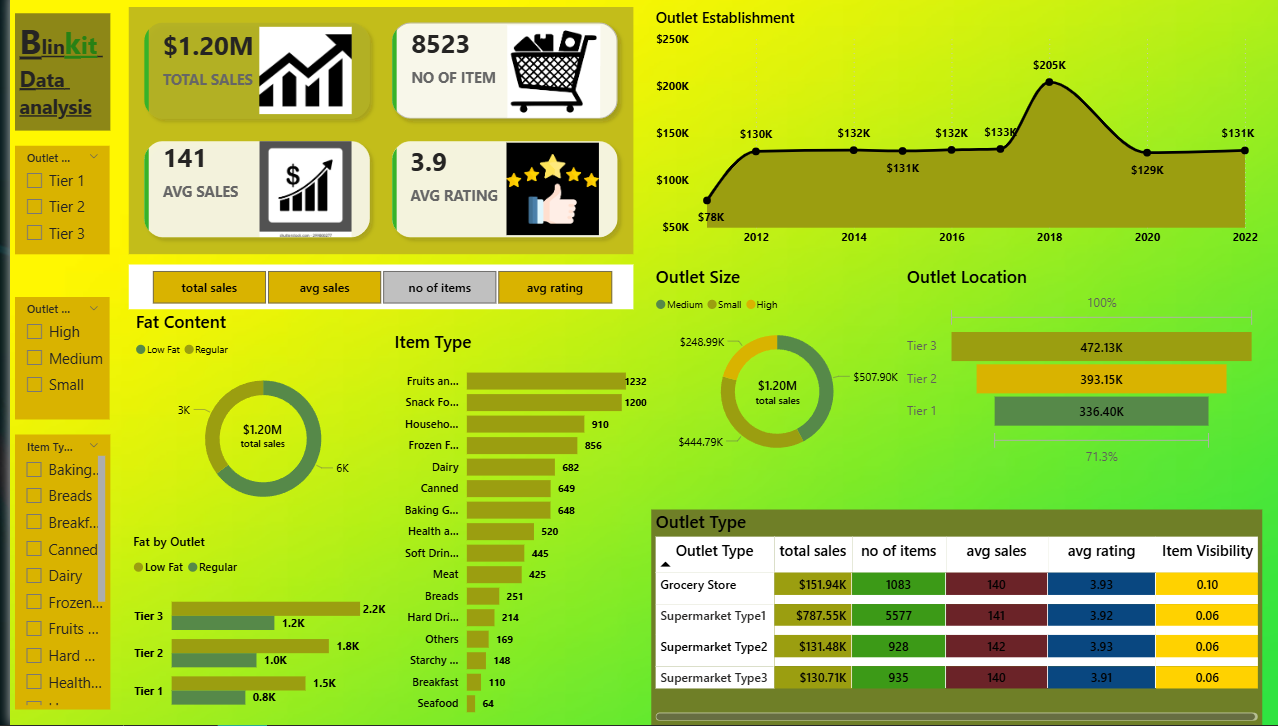

What the dashboard file says about the page in this screenshot:
{"tool":"powerbi","page":{"name":"Page 1","canvas":[1400,800],"ordinal":0},"visuals":[{"type":"cardVisual","fields":{"Data":["BlinkIT Grocery Data.total sales","BlinkIT Grocery Data.no of items","BlinkIT Grocery Data.avg sales","BlinkIT Grocery Data.avg rating"]},"box":[129.5,16.4,550.8,269.9],"z":0},{"type":"donutChart","title":"Fat Content","fields":{"Y":["BlinkIT Grocery Data.no of items"],"Category":["BlinkIT Grocery Data.Item Fat Content"]},"box":[132.1,346.7,288.2,229.6],"z":1000},{"type":"slicer","fields":{"Values":["matrix.matrix"]},"box":[129.5,297.2,550.8,49.1],"z":2000},{"type":"cardVisual","fields":{"Data":["BlinkIT Grocery Data.total sales"]},"box":[229.6,448.8,93.1,69],"z":3000},{"type":"clusteredBarChart","title":"Fat by Outlet","fields":{"Y":["BlinkIT Grocery Data.no of items"],"Category":["BlinkIT Grocery Data.Outlet Location Type"],"Series":["BlinkIT Grocery Data.Item Fat Content"]},"box":[129.1,589.8,285.2,210.1],"z":4000},{"type":"barChart","title":"Item Type","fields":{"Y":["BlinkIT Grocery Data.no of items"],"Category":["BlinkIT Grocery Data.Item Type"]},"box":[414.2,367.7,285.2,432.2],"z":5000},{"type":"lineChart","title":"Outlet Establishment","fields":{"Y":["BlinkIT Grocery Data.total sales"],"Category":["BlinkIT Grocery Data.Outlet Establishment Year"]},"box":[699.4,16.4,666.7,269.9],"z":6000},{"type":"donutChart","title":"Outlet Size","fields":{"Y":["BlinkIT Grocery Data.total sales"],"Category":["BlinkIT Grocery Data.Outlet Size"]},"box":[699.4,297.2,275,225],"z":7000},{"type":"cardVisual","fields":{"Data":["BlinkIT Grocery Data.total sales"]},"box":[791,400.7,93.1,69],"z":8000},{"type":"funnel","title":"Outlet Location","fields":{"Y":["Sum(BlinkIT Grocery Data.Sales)"],"Category":["BlinkIT Grocery Data.Outlet Location Type"]},"box":[974,297,391,225],"z":9000},{"type":"pivotTable","title":"Outlet Type","fields":{"Rows":["BlinkIT Grocery Data.Outlet Type"],"Values":["BlinkIT Grocery Data.total sales","BlinkIT Grocery Data.no of items","BlinkIT Grocery Data.avg sales","BlinkIT Grocery Data.avg rating","Avg(BlinkIT Grocery Data.Item Visibility)"]},"box":[699.4,564.3,666.4,235.6],"z":10000},{"type":"slicer","fields":{"Values":["BlinkIT Grocery Data.Outlet Location Type"]},"box":[6,168.1,103.6,118.6],"z":11000},{"type":"slicer","fields":{"Values":["BlinkIT Grocery Data.Outlet Size"]},"box":[6,333.2,103.6,133.6],"z":12000},{"type":"slicer","fields":{"Values":["BlinkIT Grocery Data.Item Type"]},"box":[5.5,482.6,103.6,299.9],"z":13000},{"type":"textbox","box":[5.5,23.2,103.6,128.2],"z":17001}]}

Visuals, with their boxes in screenshot pixels (x1, y1, x2, y2), scaled from the page's 1400x800 canvas onto the 1278x726 screenshot:
cardVisual - BlinkIT Grocery Data.total sales x BlinkIT Grocery Data.no of items: bbox=[118, 15, 621, 260]
"Fat Content" donutChart: bbox=[121, 315, 384, 523]
slicer - matrix.matrix: bbox=[118, 270, 621, 314]
cardVisual - BlinkIT Grocery Data.total sales: bbox=[210, 407, 295, 470]
"Fat by Outlet" clusteredBarChart: bbox=[118, 535, 378, 725]
"Item Type" barChart: bbox=[378, 334, 638, 725]
"Outlet Establishment" lineChart: bbox=[638, 15, 1247, 260]
"Outlet Size" donutChart: bbox=[638, 270, 889, 474]
cardVisual - BlinkIT Grocery Data.total sales: bbox=[722, 364, 807, 426]
"Outlet Location" funnel: bbox=[889, 270, 1246, 474]
"Outlet Type" pivotTable: bbox=[638, 512, 1247, 725]
slicer - BlinkIT Grocery Data.Outlet Location Type: bbox=[5, 153, 100, 260]
slicer - BlinkIT Grocery Data.Outlet Size: bbox=[5, 302, 100, 424]
slicer - BlinkIT Grocery Data.Item Type: bbox=[5, 438, 100, 710]
textbox: bbox=[5, 21, 100, 137]
